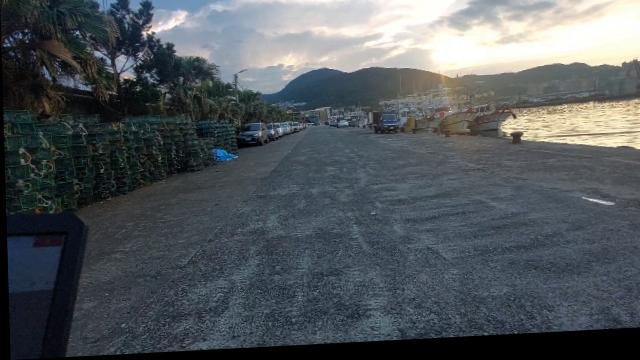pollute: (212, 151, 238, 164)
